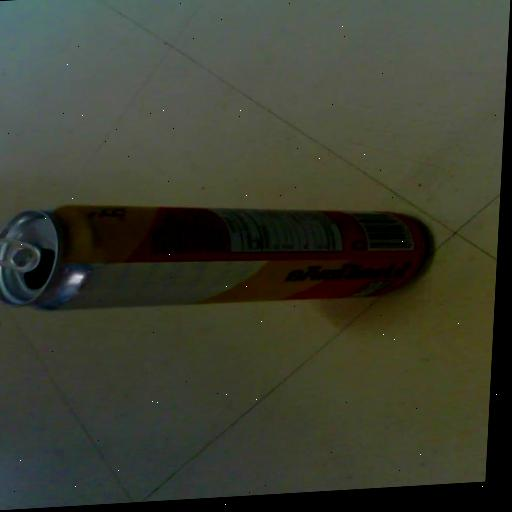canned: (0, 173, 440, 333)
